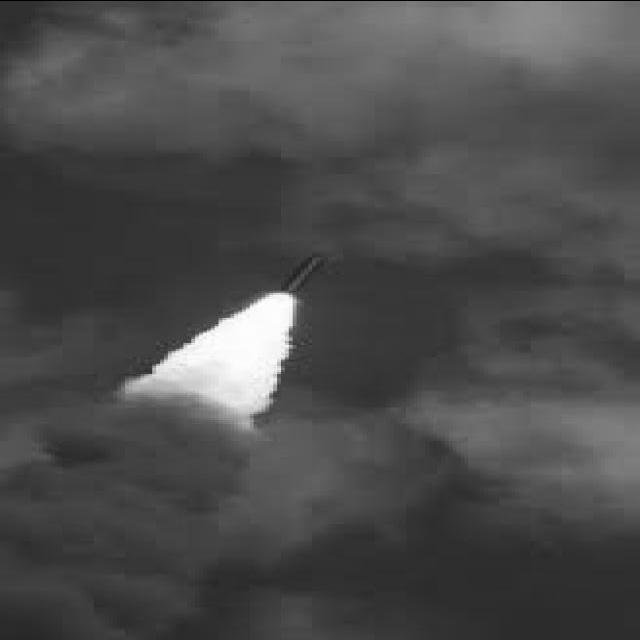missile: (268, 249, 328, 303)
